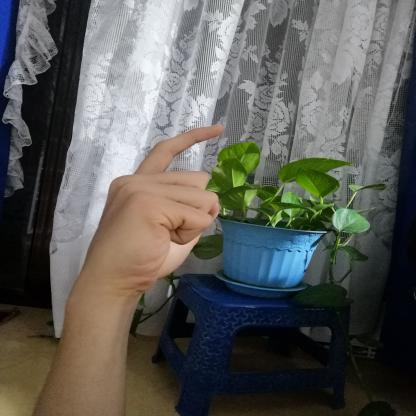RAA: (70, 116, 241, 296)
